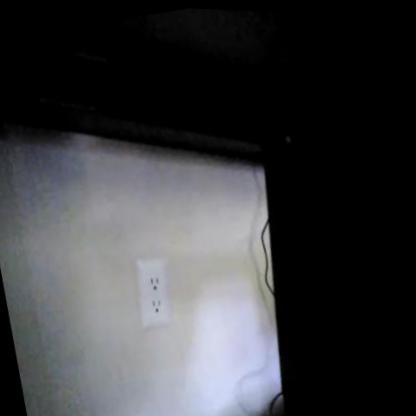OUTLET: (128, 255, 177, 330)
